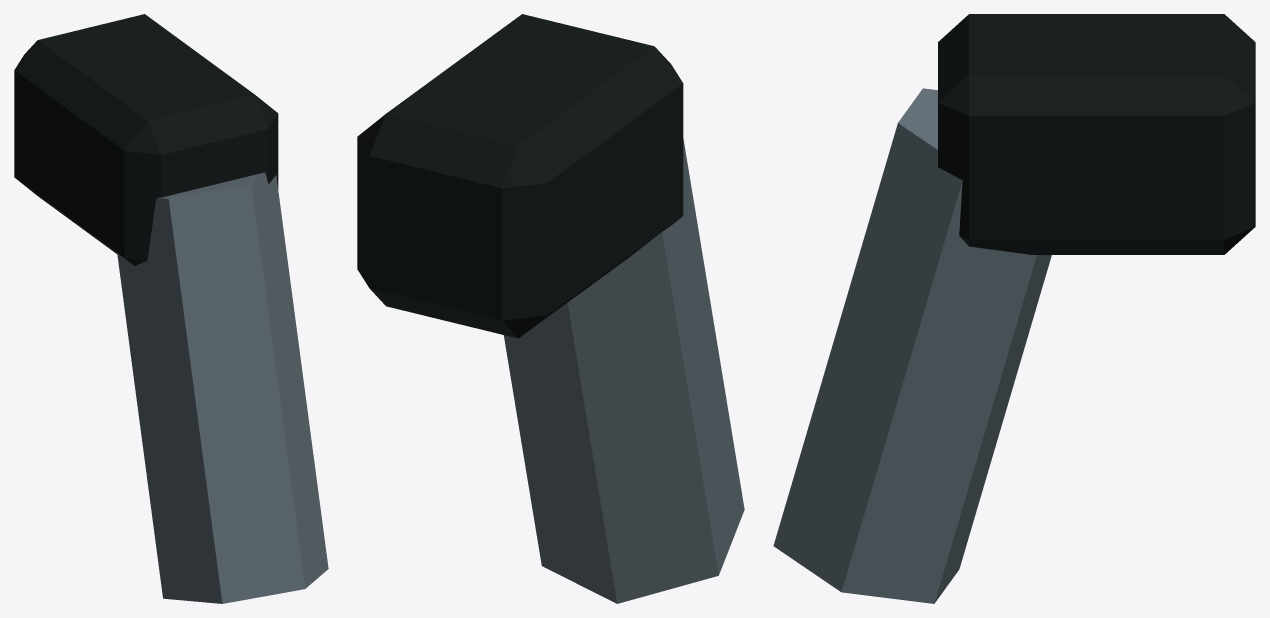
Rendered from Hammer.glb.
3 renders of one model, left to right at view 1: azimuth 30°, elevation 25°; view 2: azimuth 150°, elevation 25°; view 3: azimuth 270°, elevation 25°, orthographic. The views are drawn at different scales.
Parts seen in each view (by area): view 1: Sculpture; view 2: Sculpture; view 3: Sculpture.
Boxes of the visible parts, x1,y1,x2,y2 form: Sculpture: (14,14,328,603); Sculpture: (357,14,744,603); Sculpture: (773,14,1255,603).
Size of the model in its own units: 0.033 by 0.095 by 0.0774.
